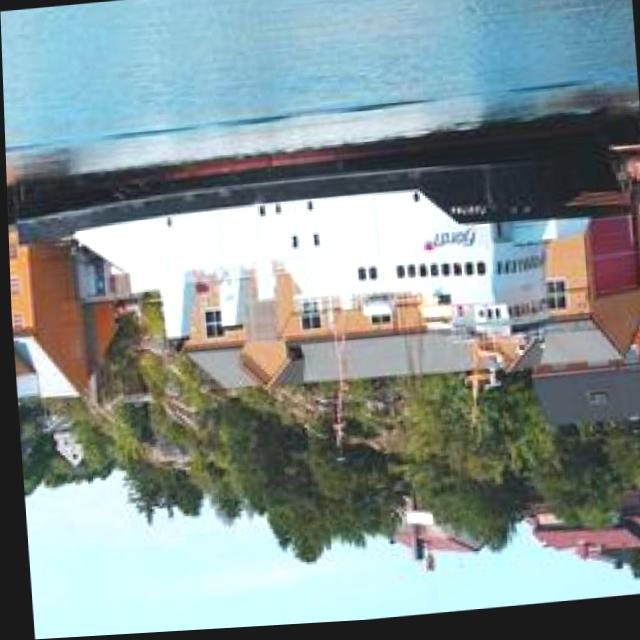ship2: (10, 131, 621, 436)
